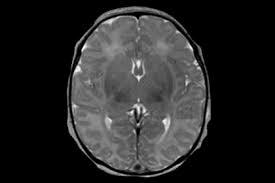Normal_Brain: (2, 1, 275, 183)
